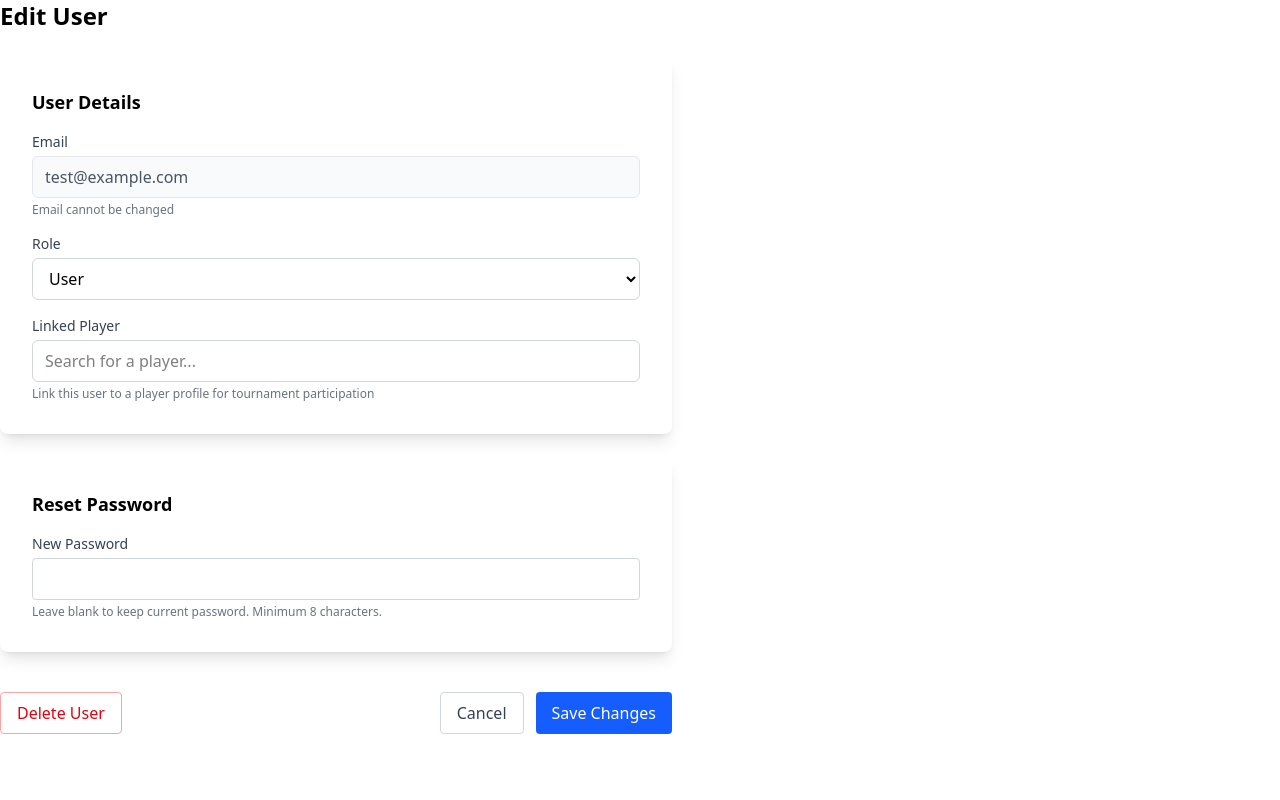
Test case: AdminUserEditPage › Delete User › shows delete confirmation dialog
The image size is (1280, 800).
Click the button "Delete User".
click(61, 713)  # box [0, 692, 122, 734]
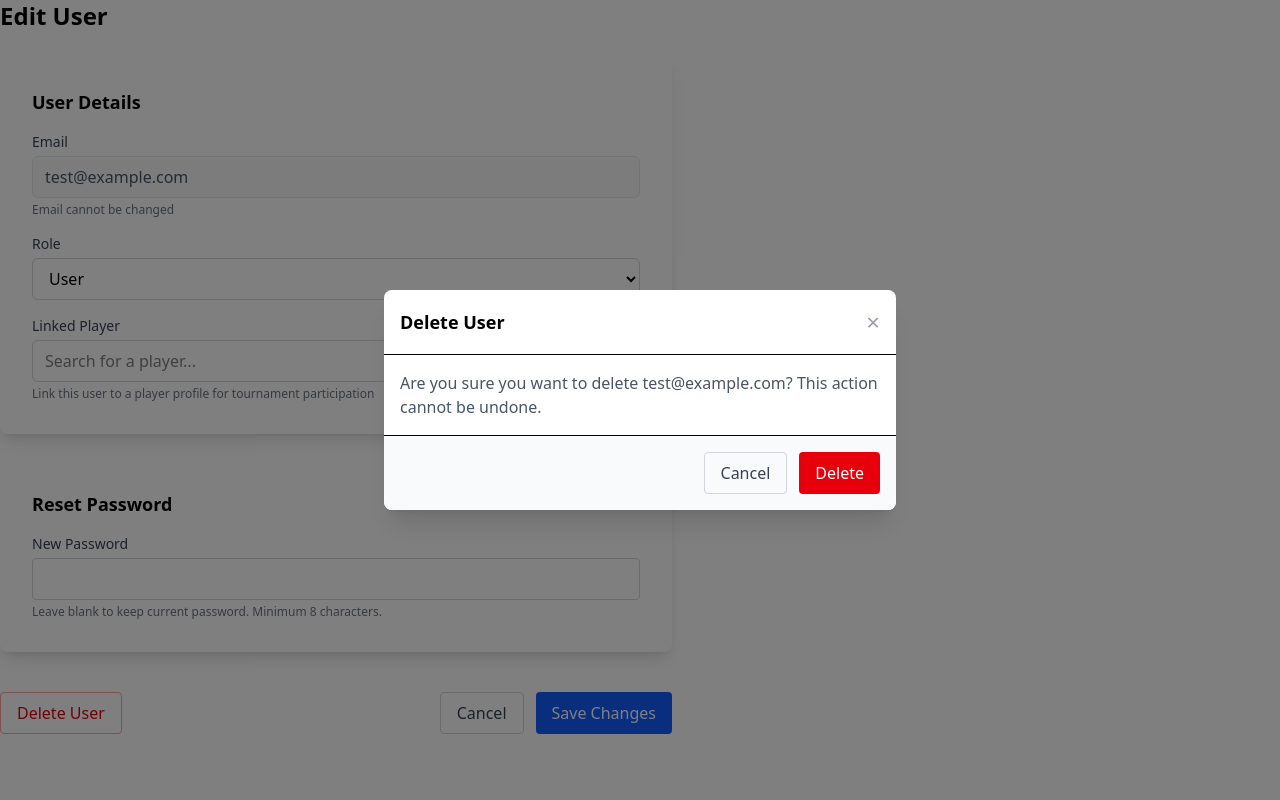
Result: the text "Are you sure you want to delete" is shown at [400, 372, 878, 418]
